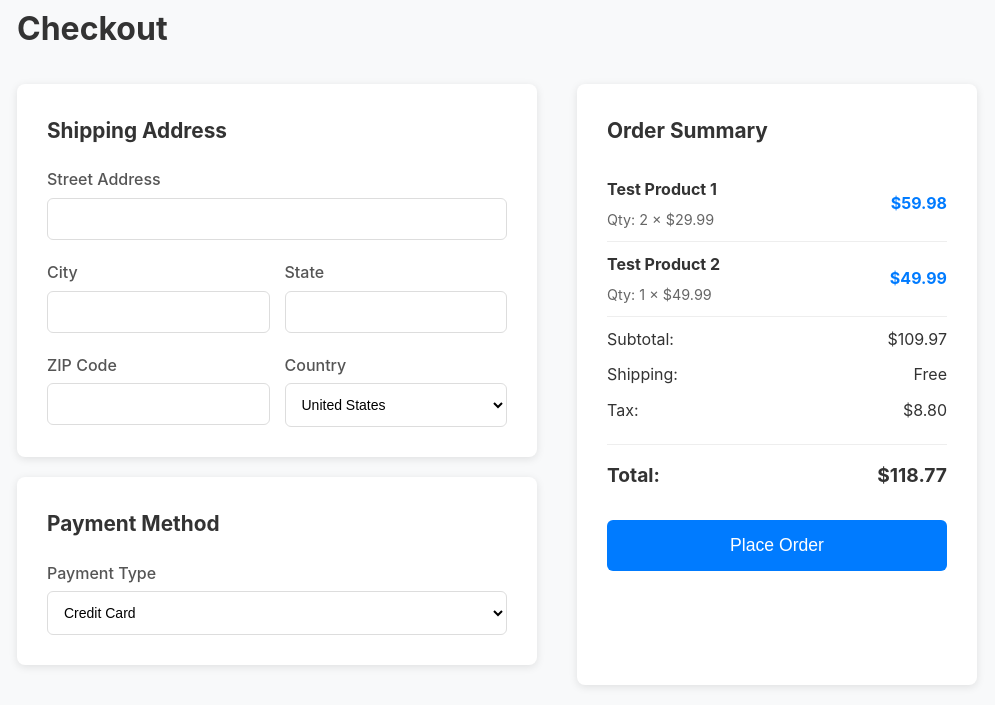
Scenario: Checkout Page › Order Placement › handles generic order error
Step 1. Type "123 Main St" into the field labelled "Street Address" → (277, 219), box [47, 198, 507, 240]
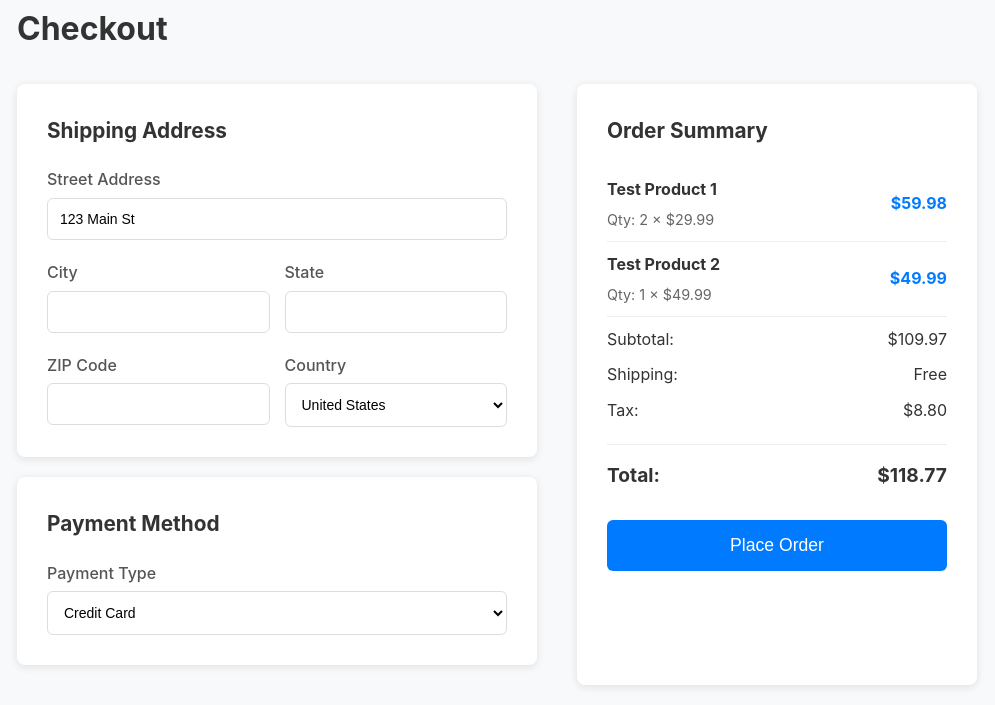
Step 2. Type "Anytown" into the field labelled "City" → (158, 312), box [47, 291, 270, 333]
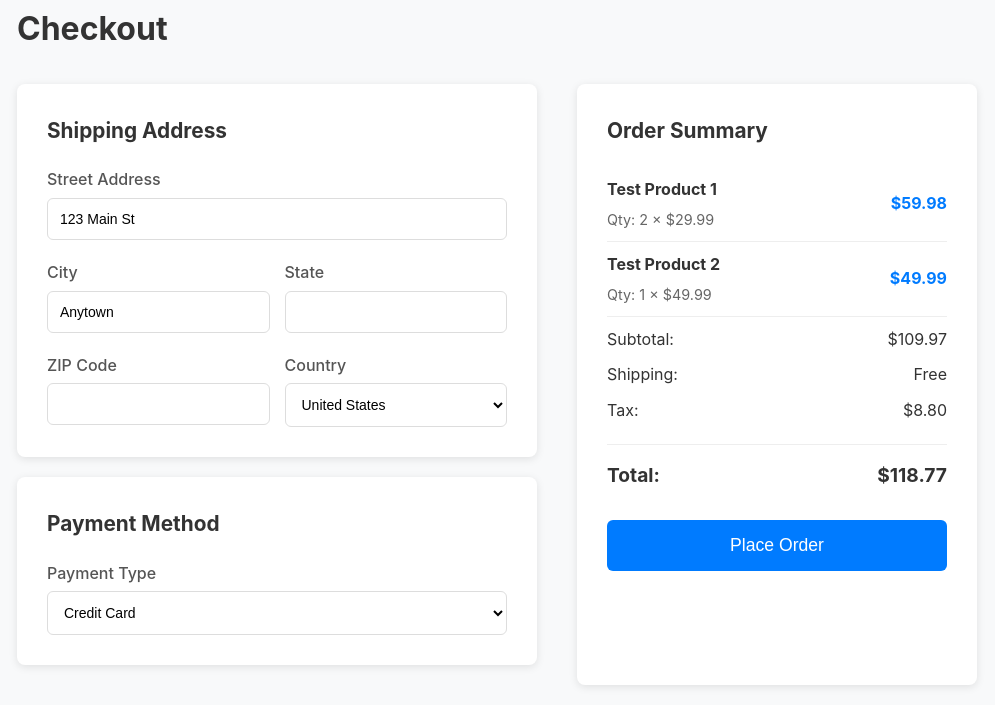
Step 3. Type "CA" into the field labelled "State" → (396, 312), box [284, 291, 507, 333]
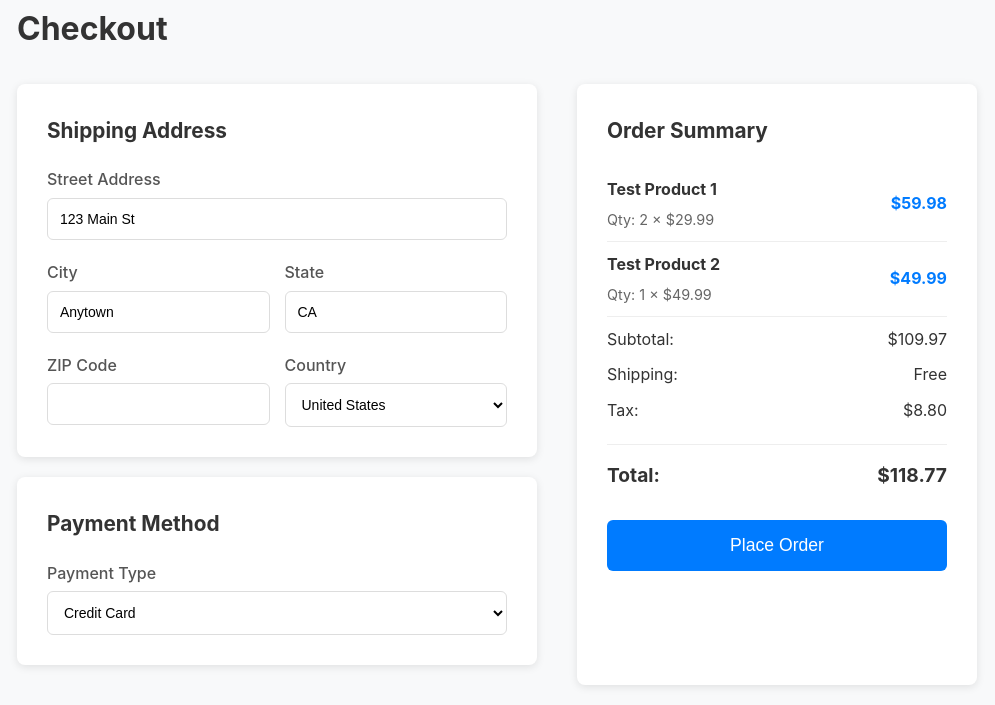
Step 4. Type "12345" into the field labelled "ZIP Code" → (158, 404), box [47, 383, 270, 425]
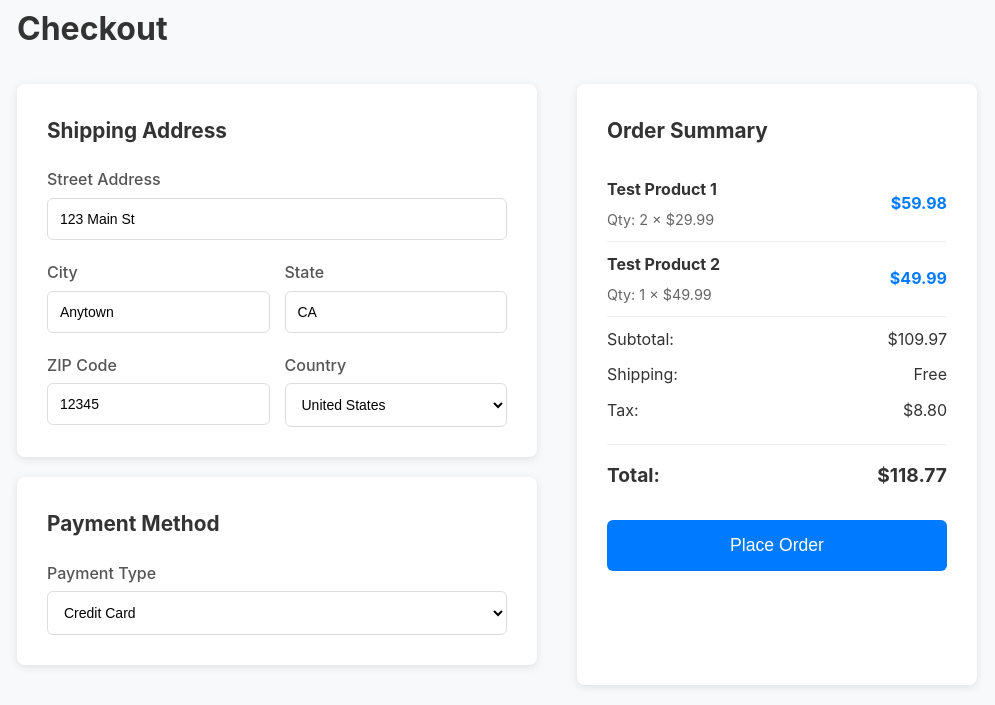
Step 5. Click the button "Place Order" → (777, 546), box [607, 520, 947, 571]
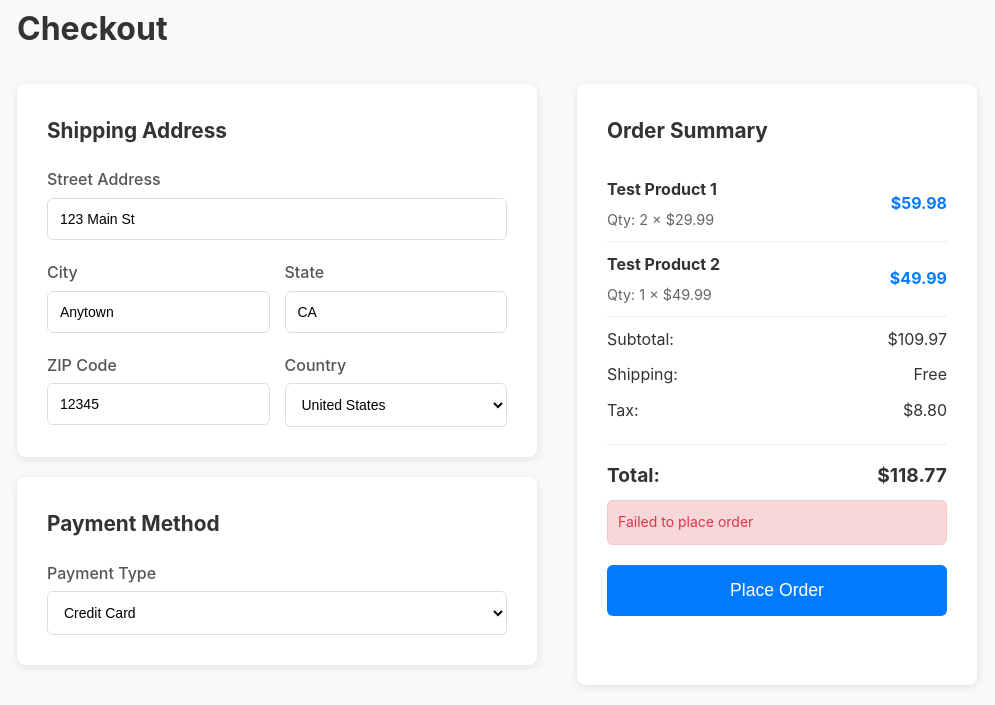
Result: the text "Failed to place order" is shown at [607, 500, 947, 545]
